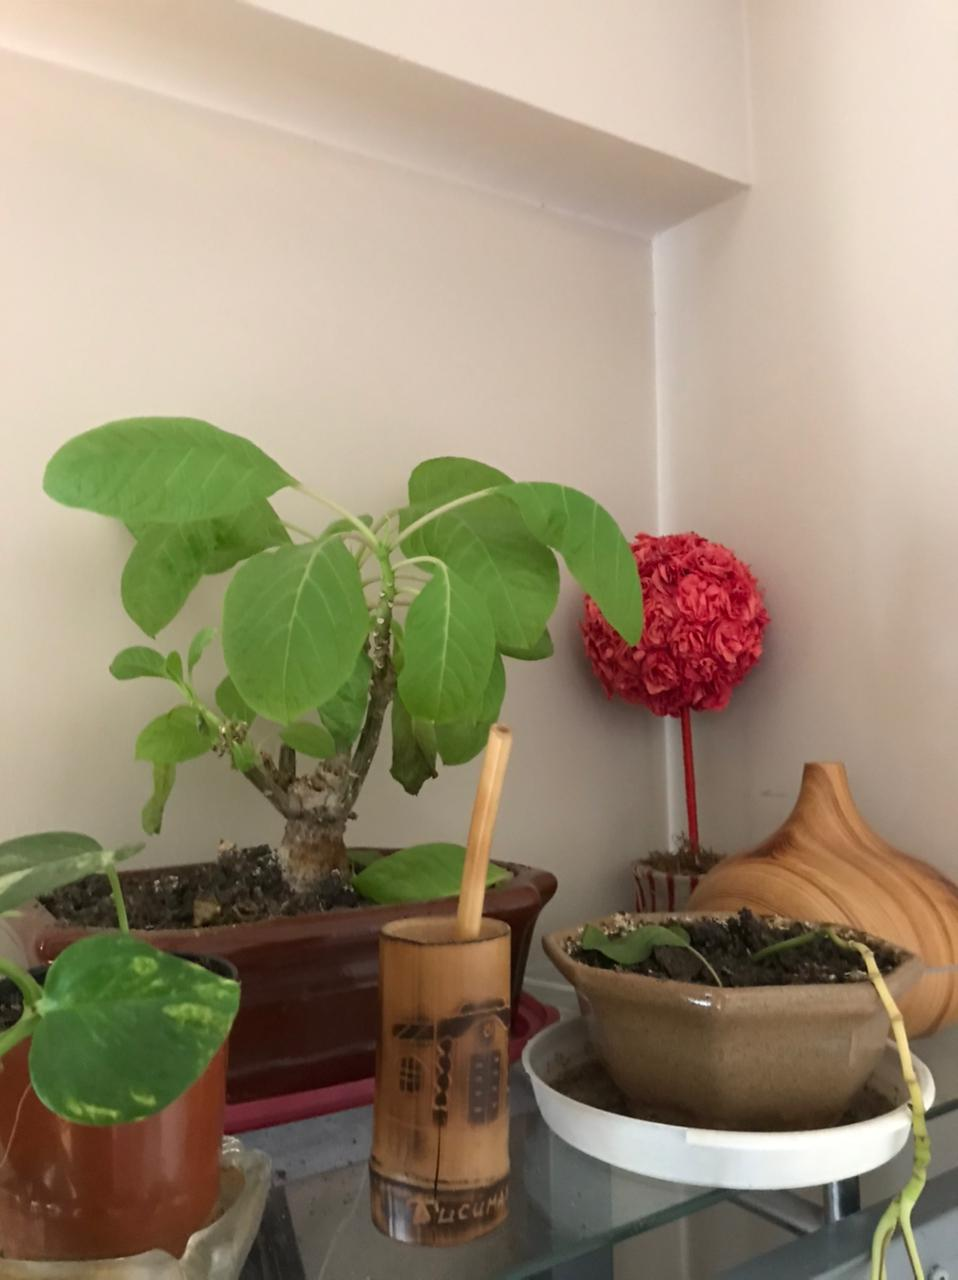mate: (340, 710, 543, 1241)
